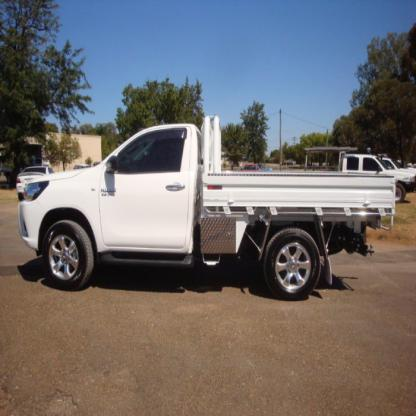light_vehicle: (12, 108, 397, 308)
